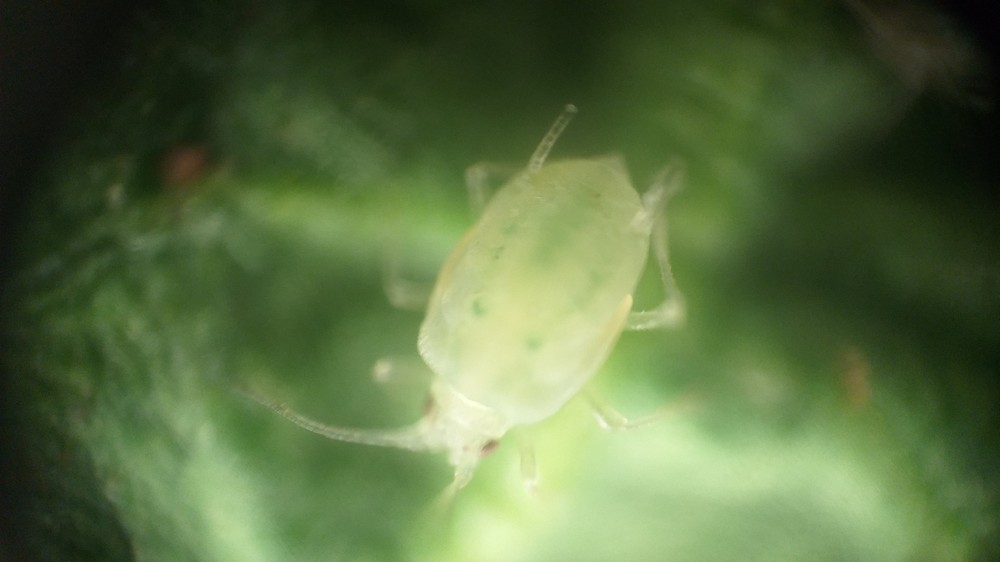Pulgon: (219, 88, 793, 552)
